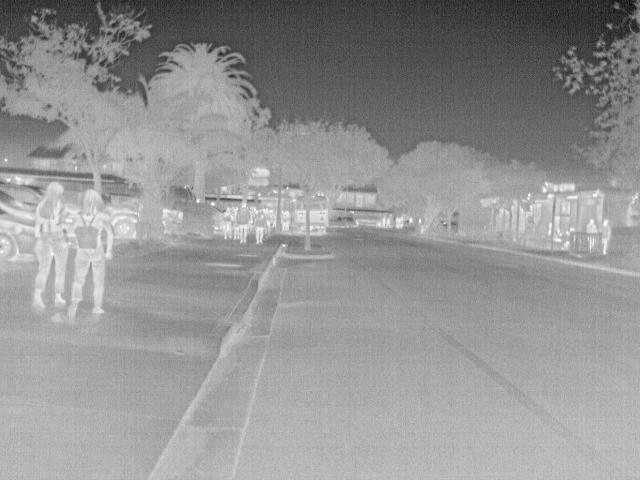car: (1, 208, 37, 264), (1, 180, 43, 206), (106, 207, 139, 240), (163, 206, 187, 232), (336, 214, 359, 228)
person: (64, 191, 114, 317), (31, 183, 69, 308), (251, 206, 270, 248), (236, 197, 252, 244), (598, 218, 612, 256), (583, 218, 600, 236), (279, 208, 288, 233), (285, 209, 292, 233)
